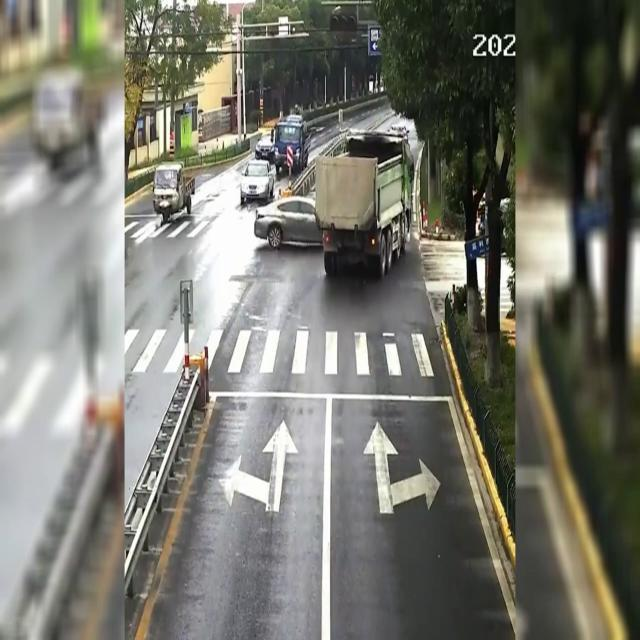normal: (230, 106, 435, 306)
